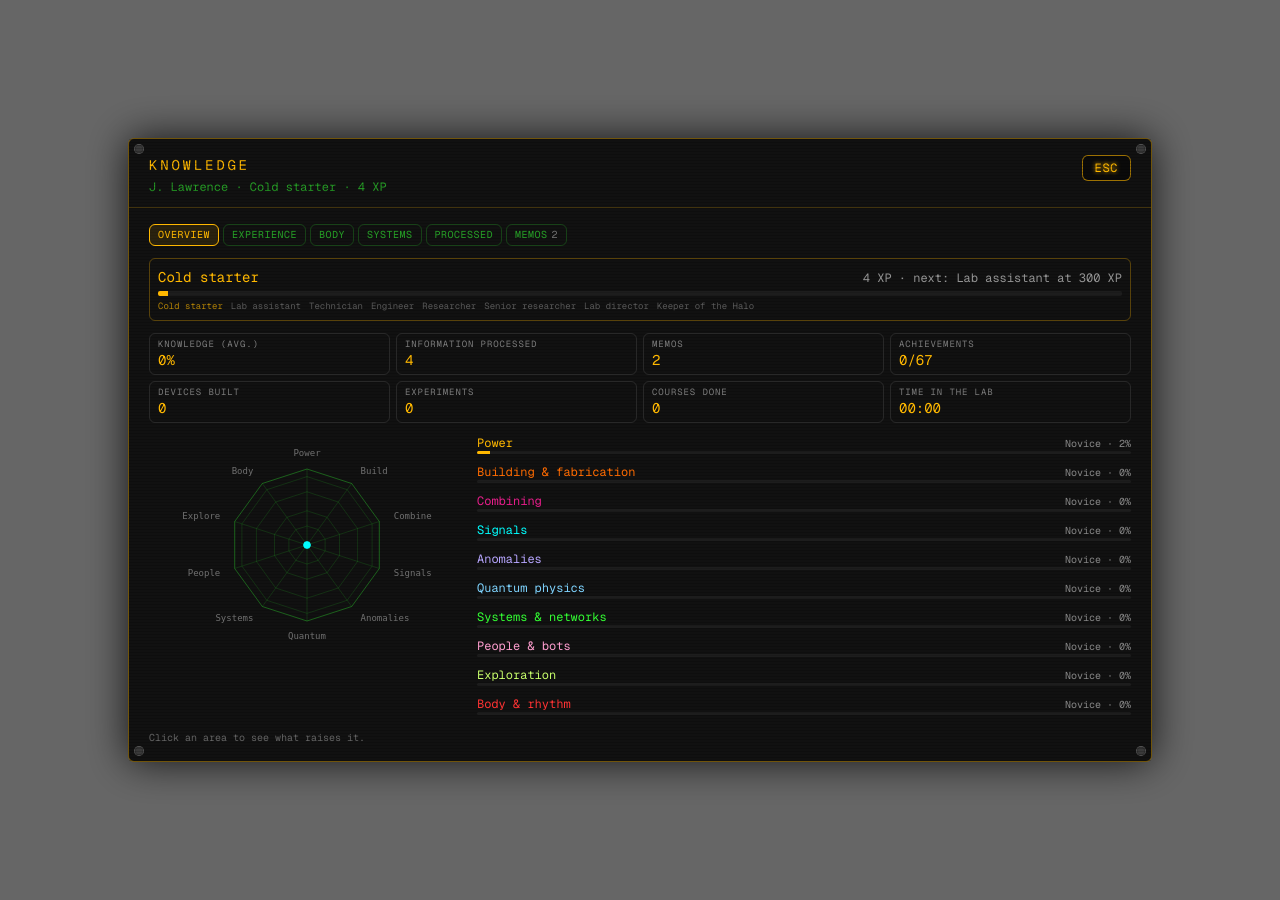
Scenario: KnowledgePanel › renders every tab without crashing
Expected: the picture named "radar" is shown, [149,436,465,656]
Click the tab "Experience".
click(264, 235)  # box [223,224,306,246]
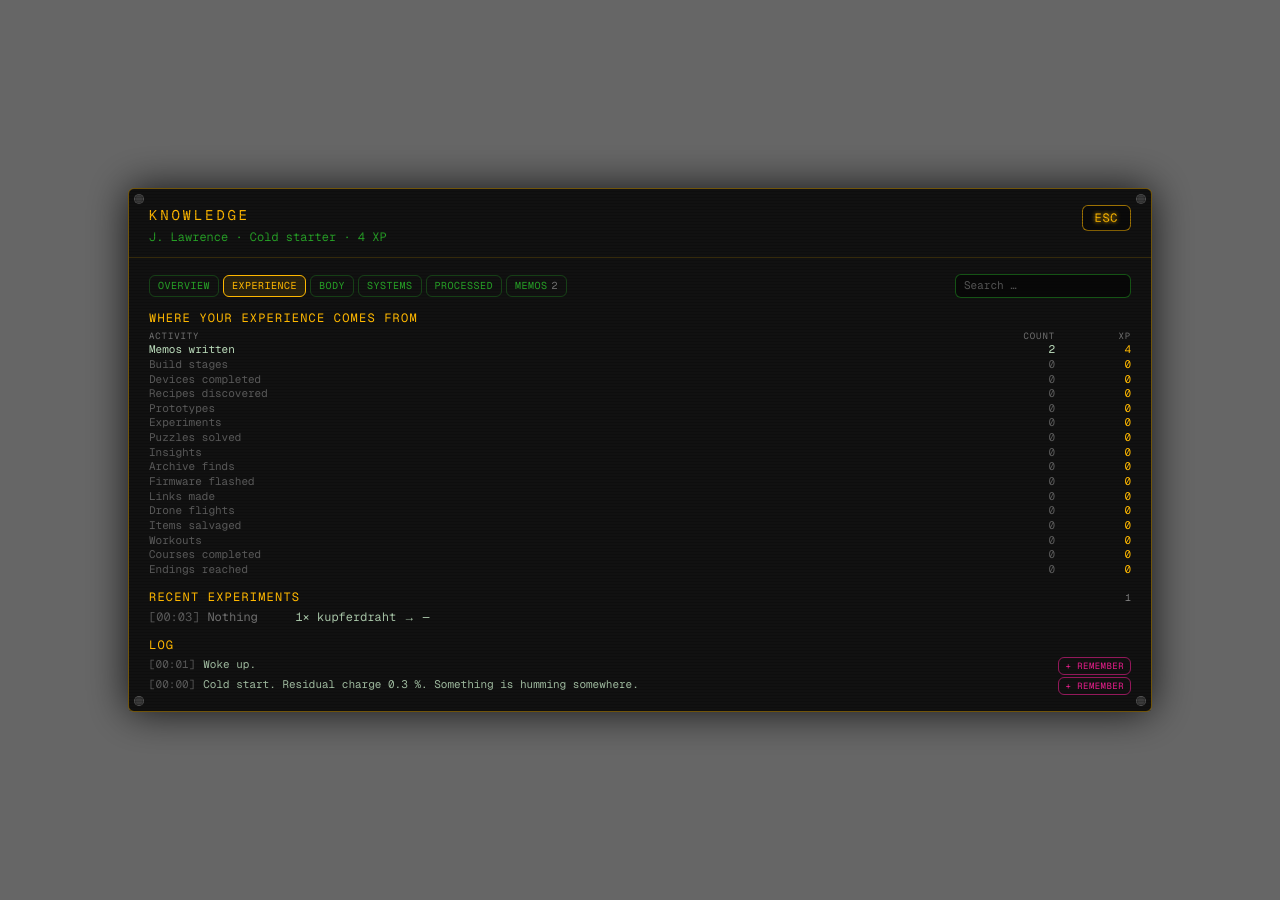
Click the tab "Body".
click(332, 286)  # box [310,275,354,297]
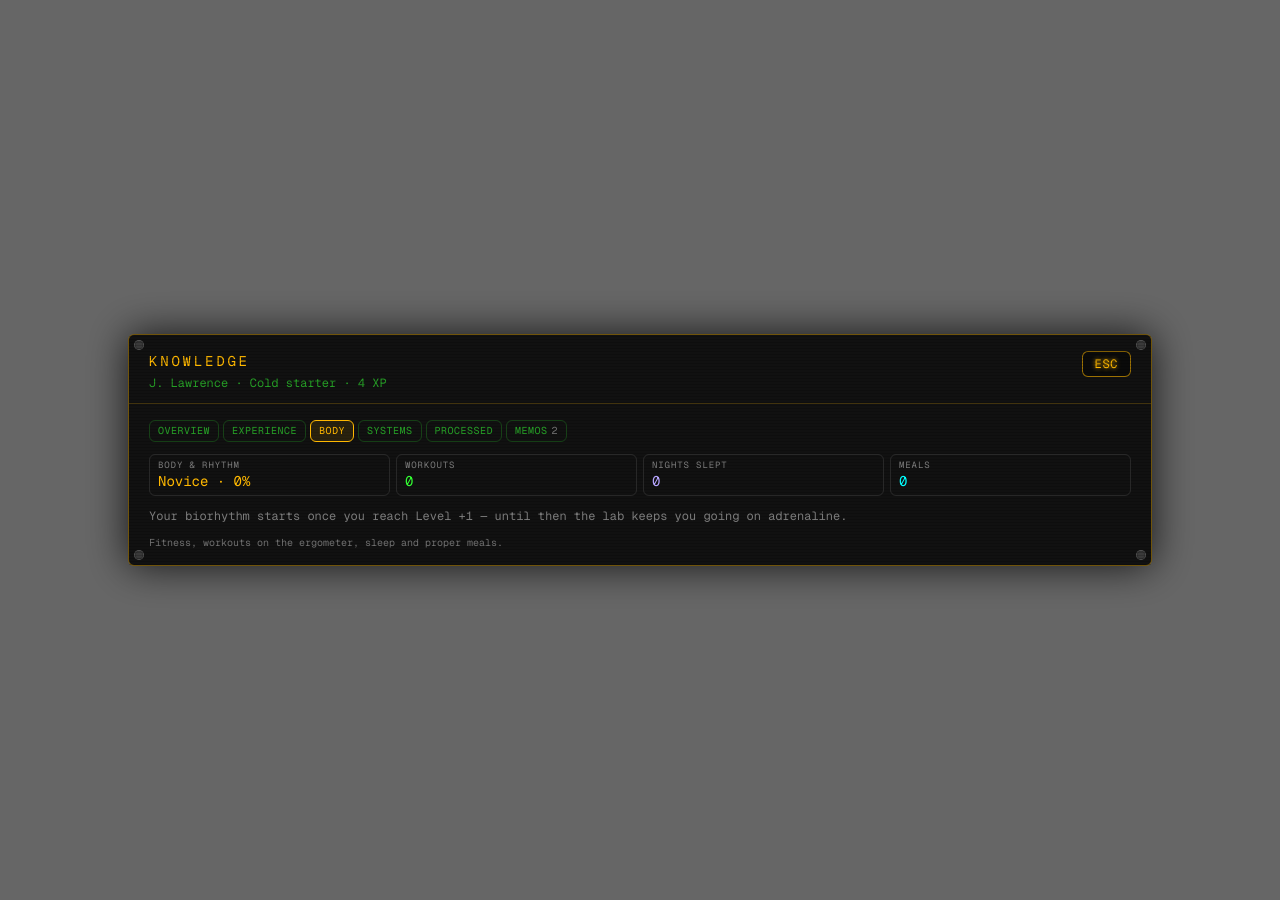
Click the tab "Systems".
click(390, 431)  # box [358,420,422,442]
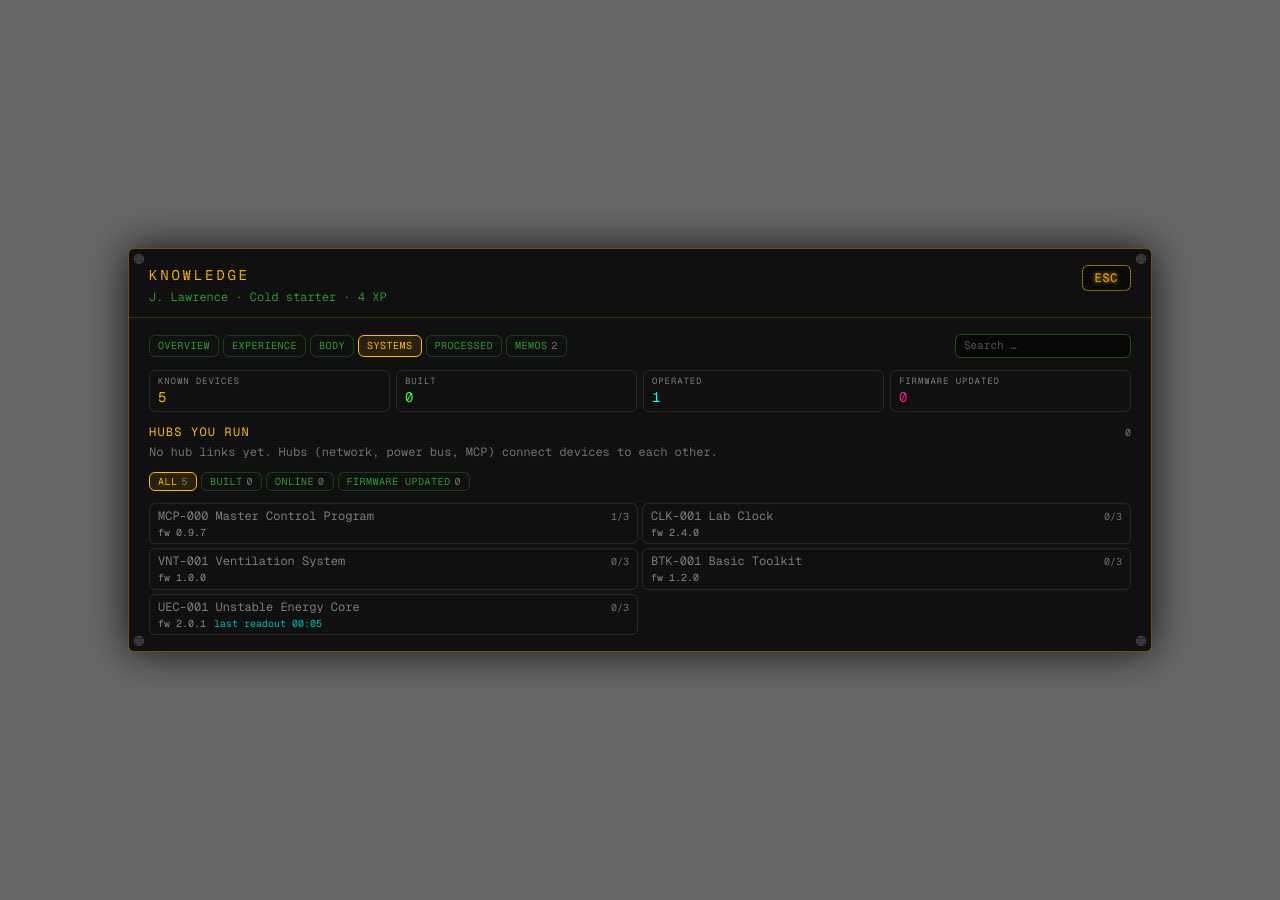
Click the tab "Processed".
click(464, 346)  # box [426,335,502,357]
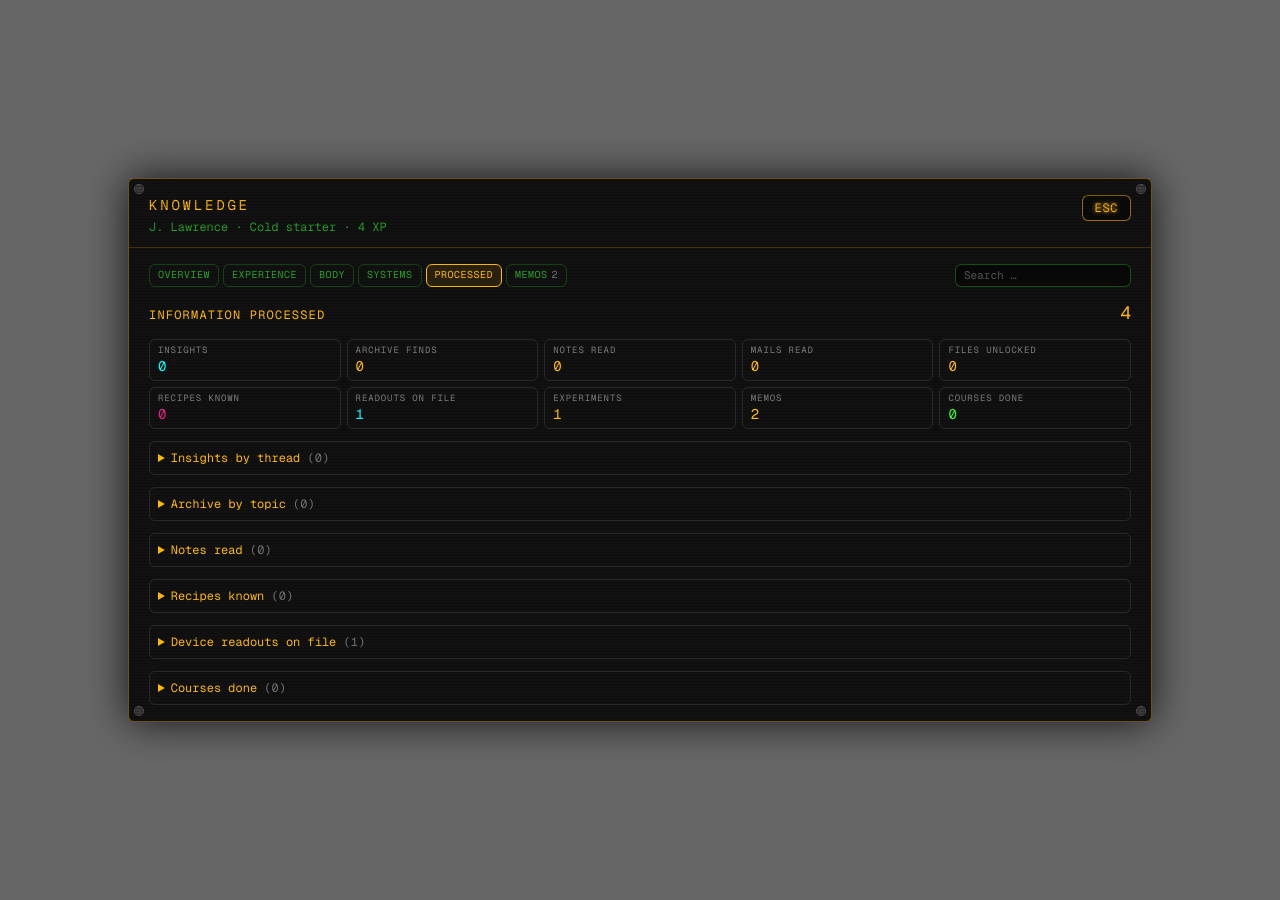
Click the tab "Memos2".
click(536, 276)  # box [506,264,567,287]
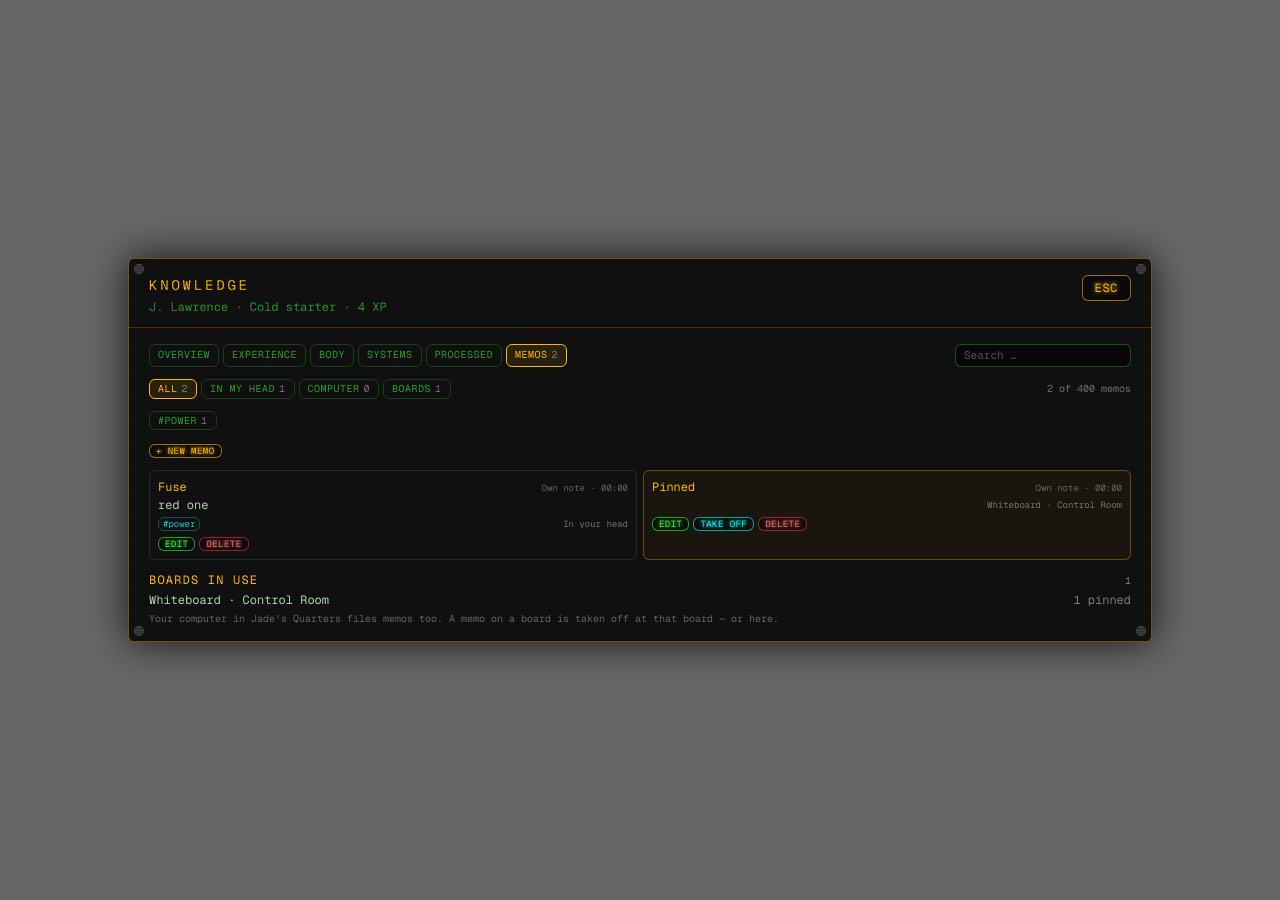
Now the number of list items is 1, box [149,592,1131,608]
